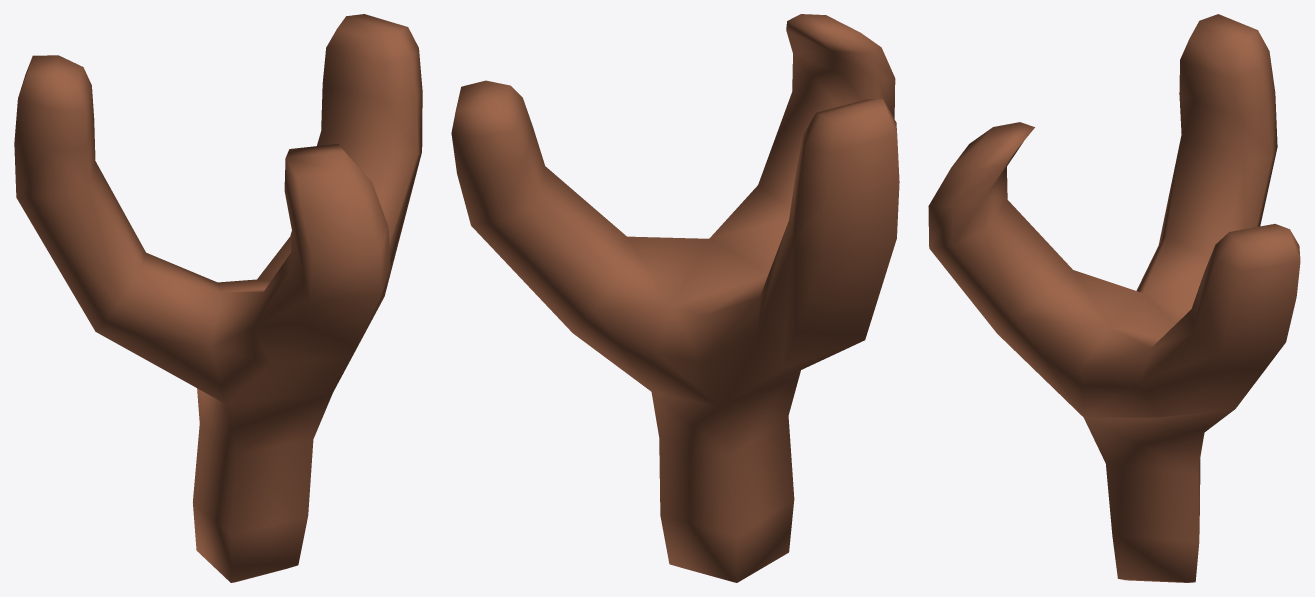
Rendered from Shrub_Btm_B_03_LOD2.gltf.
The picture shows the model from 3 angles, left to right: view 1: azimuth 30°, elevation 25°; view 2: azimuth 150°, elevation 25°; view 3: azimuth 270°, elevation 25°; orthographic projection. The views are drawn at different scales.
Visible parts, largest first — view 1: Shrub_Btm_B_03_LOD2_Cylinder.681; view 2: Shrub_Btm_B_03_LOD2_Cylinder.681; view 3: Shrub_Btm_B_03_LOD2_Cylinder.681.
Boxes of the visible parts, box(x1,y1,x2,y2) form: Shrub_Btm_B_03_LOD2_Cylinder.681: box(14, 14, 422, 582); Shrub_Btm_B_03_LOD2_Cylinder.681: box(451, 14, 899, 582); Shrub_Btm_B_03_LOD2_Cylinder.681: box(928, 14, 1300, 582).
Bounding box in the file's own units: 2.98 × 3.5 × 2.49.
1 material, 1 textured.
